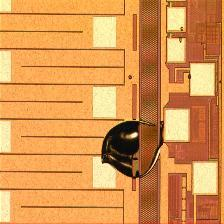PO CONTAMINATION: (99, 120, 167, 178)
